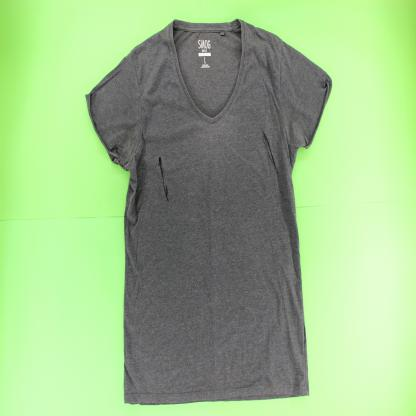hole: (261, 129, 279, 177), (157, 153, 171, 206)
